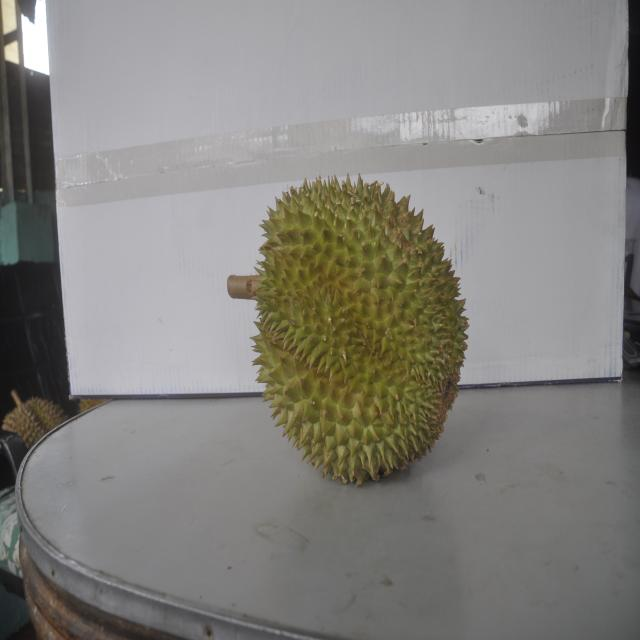mature: (243, 169, 456, 485), (2, 394, 67, 450)
